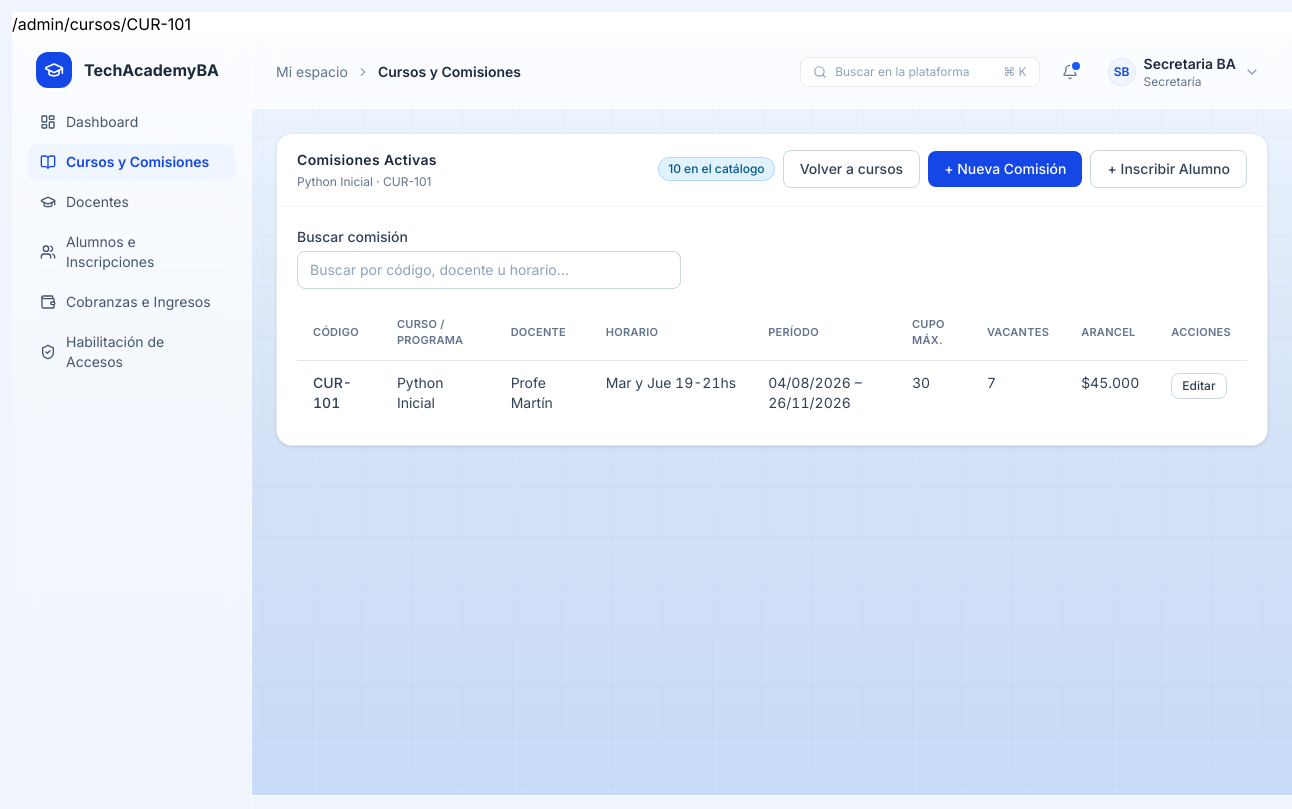
vista de comisiones del curso › muestra mensaje cuando no hay comisiones coincidentes
The image size is (1292, 809).
Expected: the heading "Comisiones Activas" is shown, [297,150,437,170]
Step 1. Type "zzzz" into the field labelled "Buscar comisión" → x=489, y=270, box [297,251,681,289]
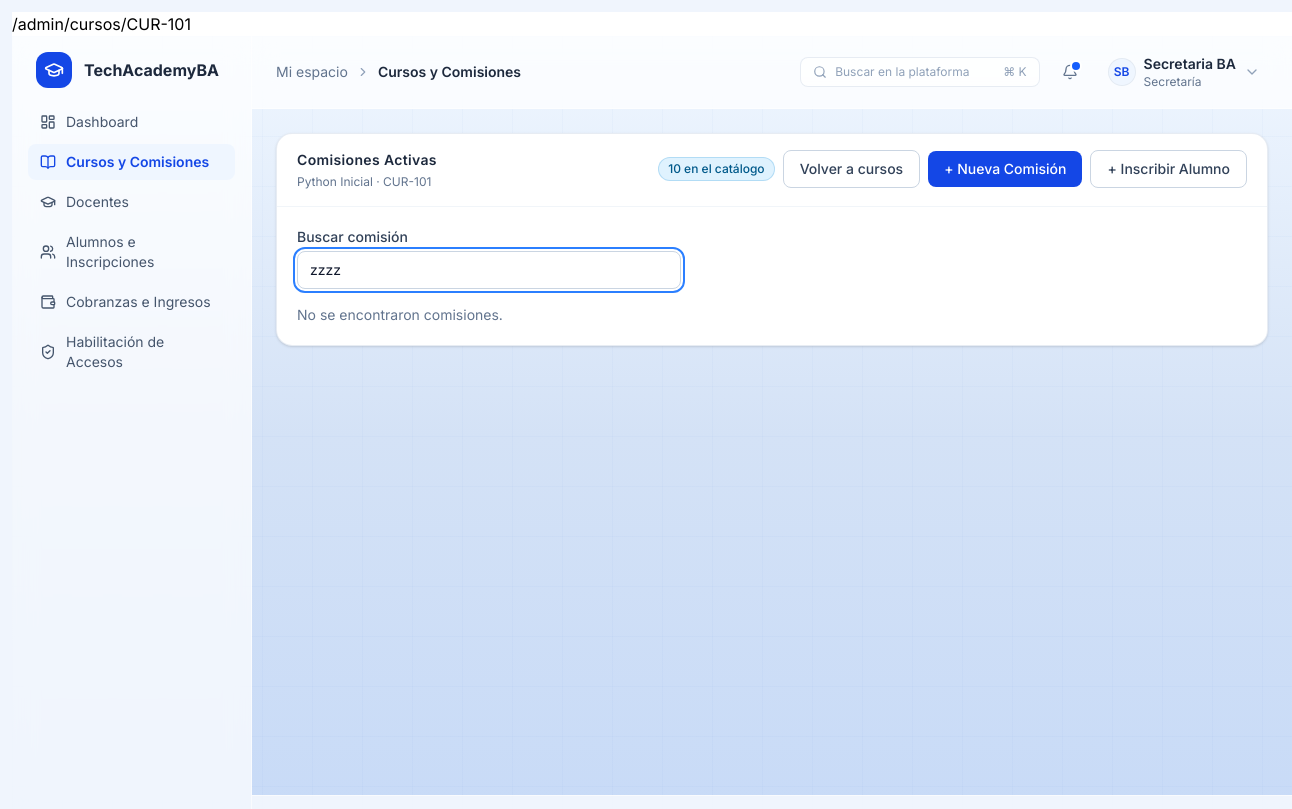
Now the text "No se encontraron comisiones." is shown, box [297,306,503,323]
